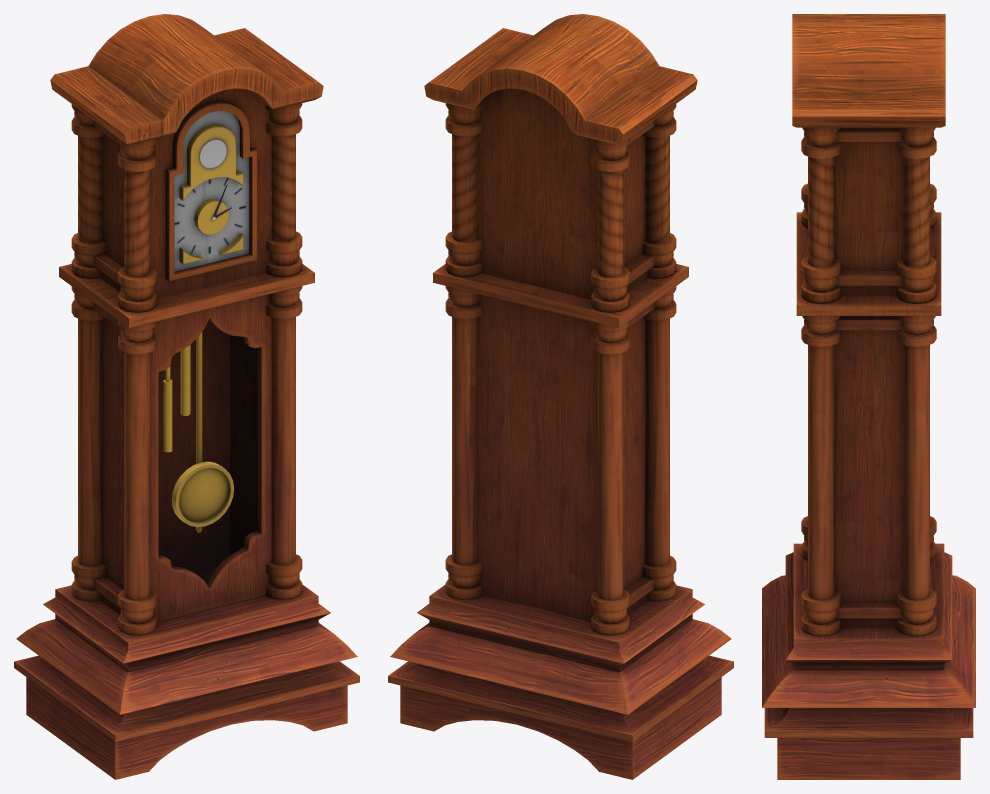
The model's file is clock.glb.
3 views of the same model, side by side, from view 1: azimuth 30°, elevation 25°; view 2: azimuth 150°, elevation 25°; view 3: azimuth 270°, elevation 25° (orthographic). The views are drawn at different scales.
Visible parts, largest first — view 1: clock_low; view 2: clock_low; view 3: clock_low.
Part boxes in pixels (box(x1,y1,x2,y2)): clock_low: box(14, 14, 359, 779); clock_low: box(388, 14, 733, 779); clock_low: box(762, 14, 975, 779).
Bounding box in the file's own units: 4.08 × 10.78 × 3.
1 material, 1 textured.
